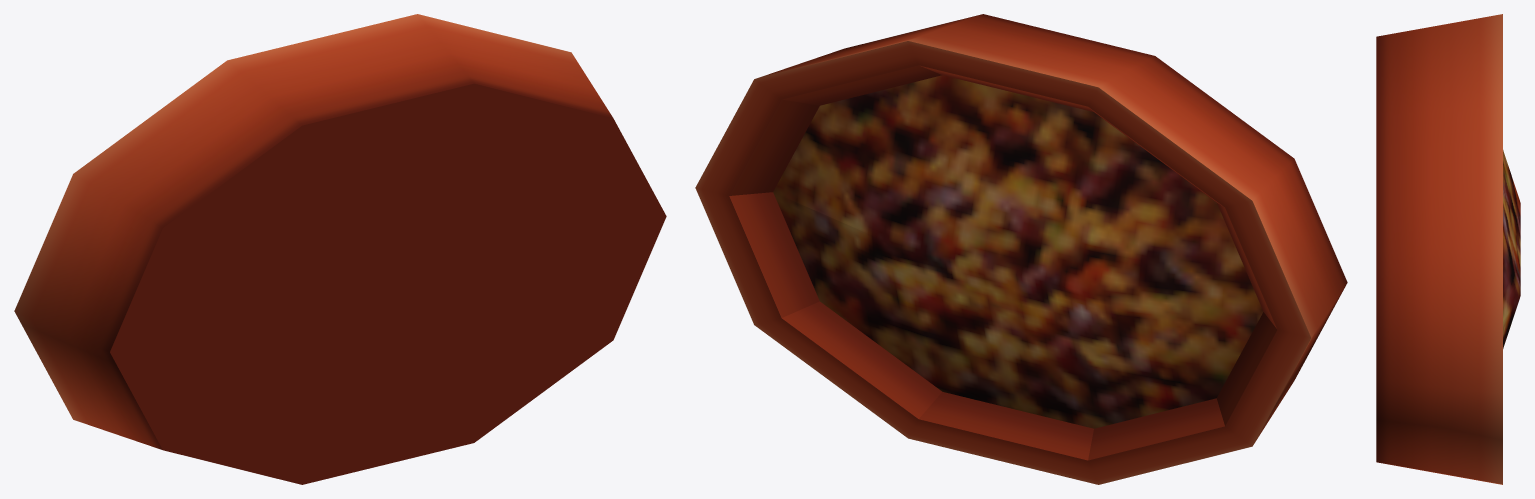
The model's file is Chili.fbx.
3 renders of one model, left to right at view 1: azimuth 30°, elevation 25°; view 2: azimuth 150°, elevation 25°; view 3: azimuth 270°, elevation 25°, orthographic. The views are drawn at different scales.
Parts seen in each view (by area): view 1: Chili; view 2: Chili; view 3: Chili.
Part boxes in pixels (box(x1,y1,x2,y2)): Chili: box(14, 14, 666, 484); Chili: box(695, 14, 1347, 484); Chili: box(1376, 14, 1520, 484).
Bounding box in the file's own units: 21 × 4.43 × 12.95.
